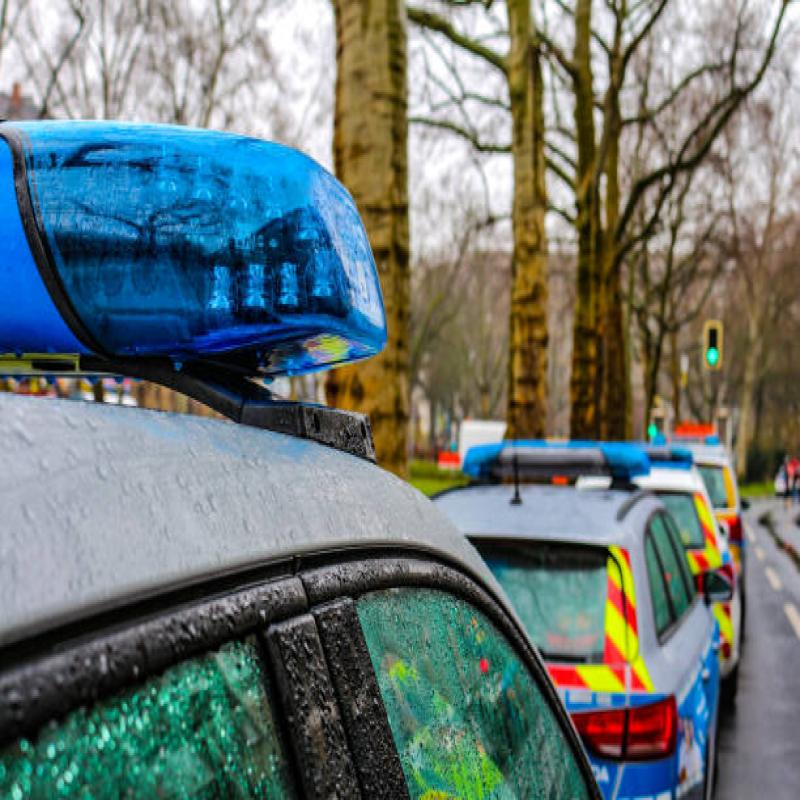AmbulanceSiren: (0, 79, 407, 400), (461, 421, 646, 505)
